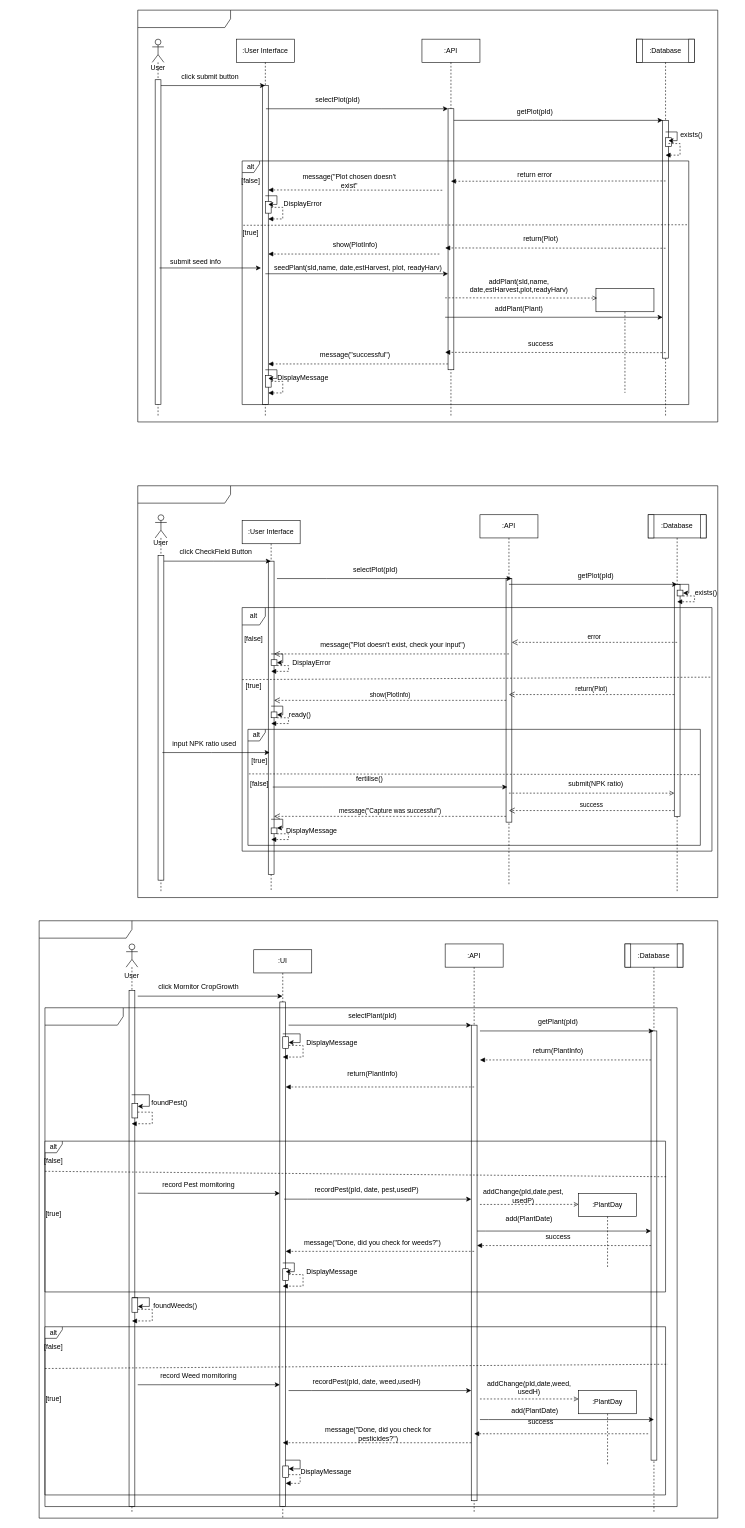
Some shapes in this 745 by 1528 pixel diagram are drawn without their labels. Each missing label, with the box of its shape:
:Plant: (595, 288, 654, 393)
loop readyHarv = false: (44, 1007, 677, 1507)
sd Capture Crop Growth: (39, 920, 718, 1518)
sd Capture Germination: (137, 10, 718, 422)
sd CheckField Condition: (137, 485, 718, 898)
